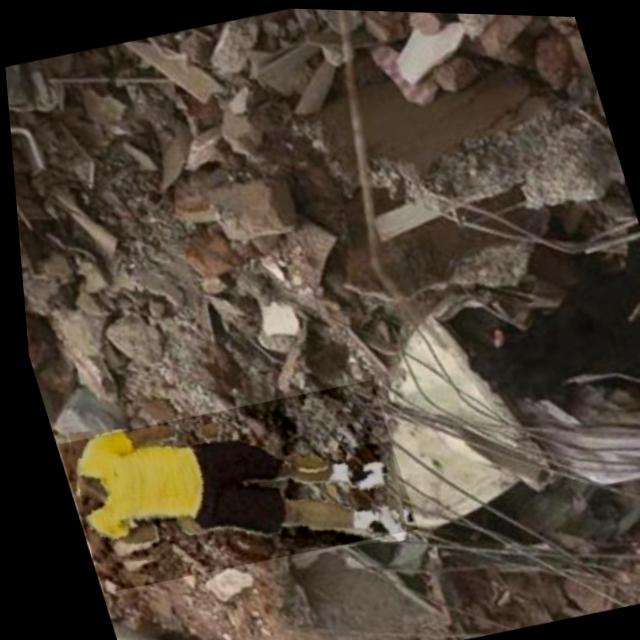Person in Rubble: (45, 369, 413, 599)
